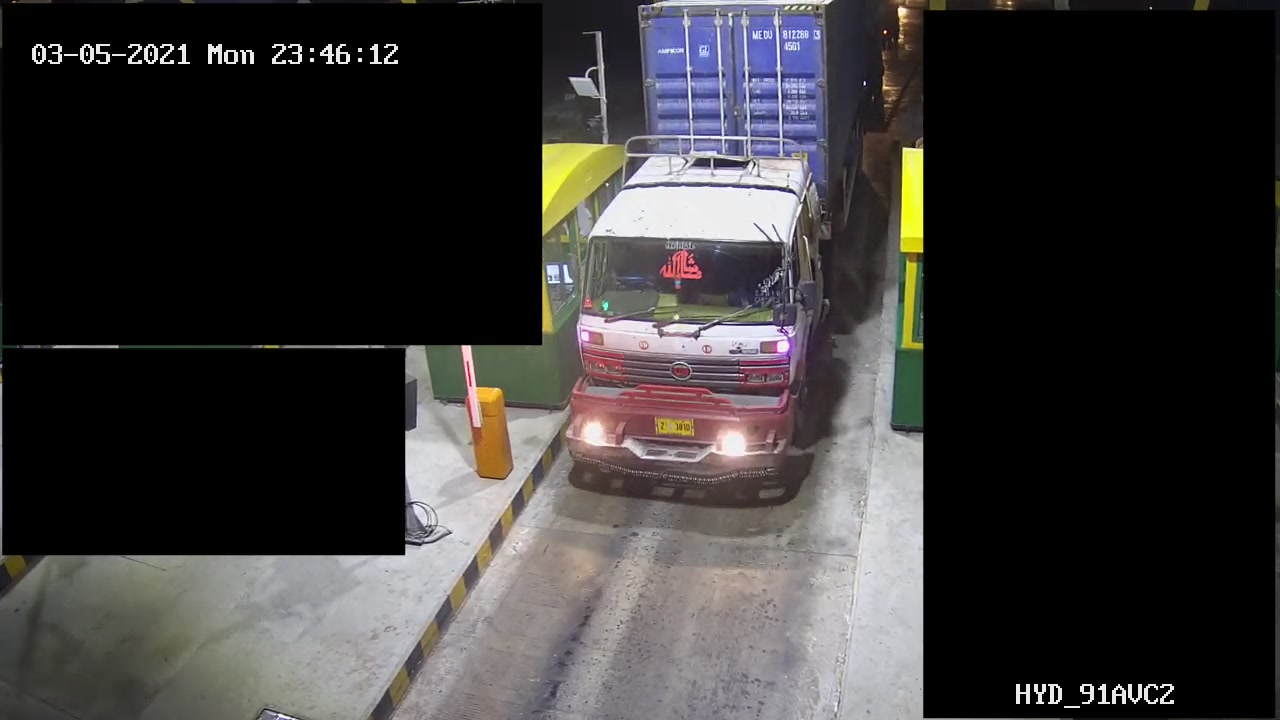F6: (561, 1, 873, 499)
